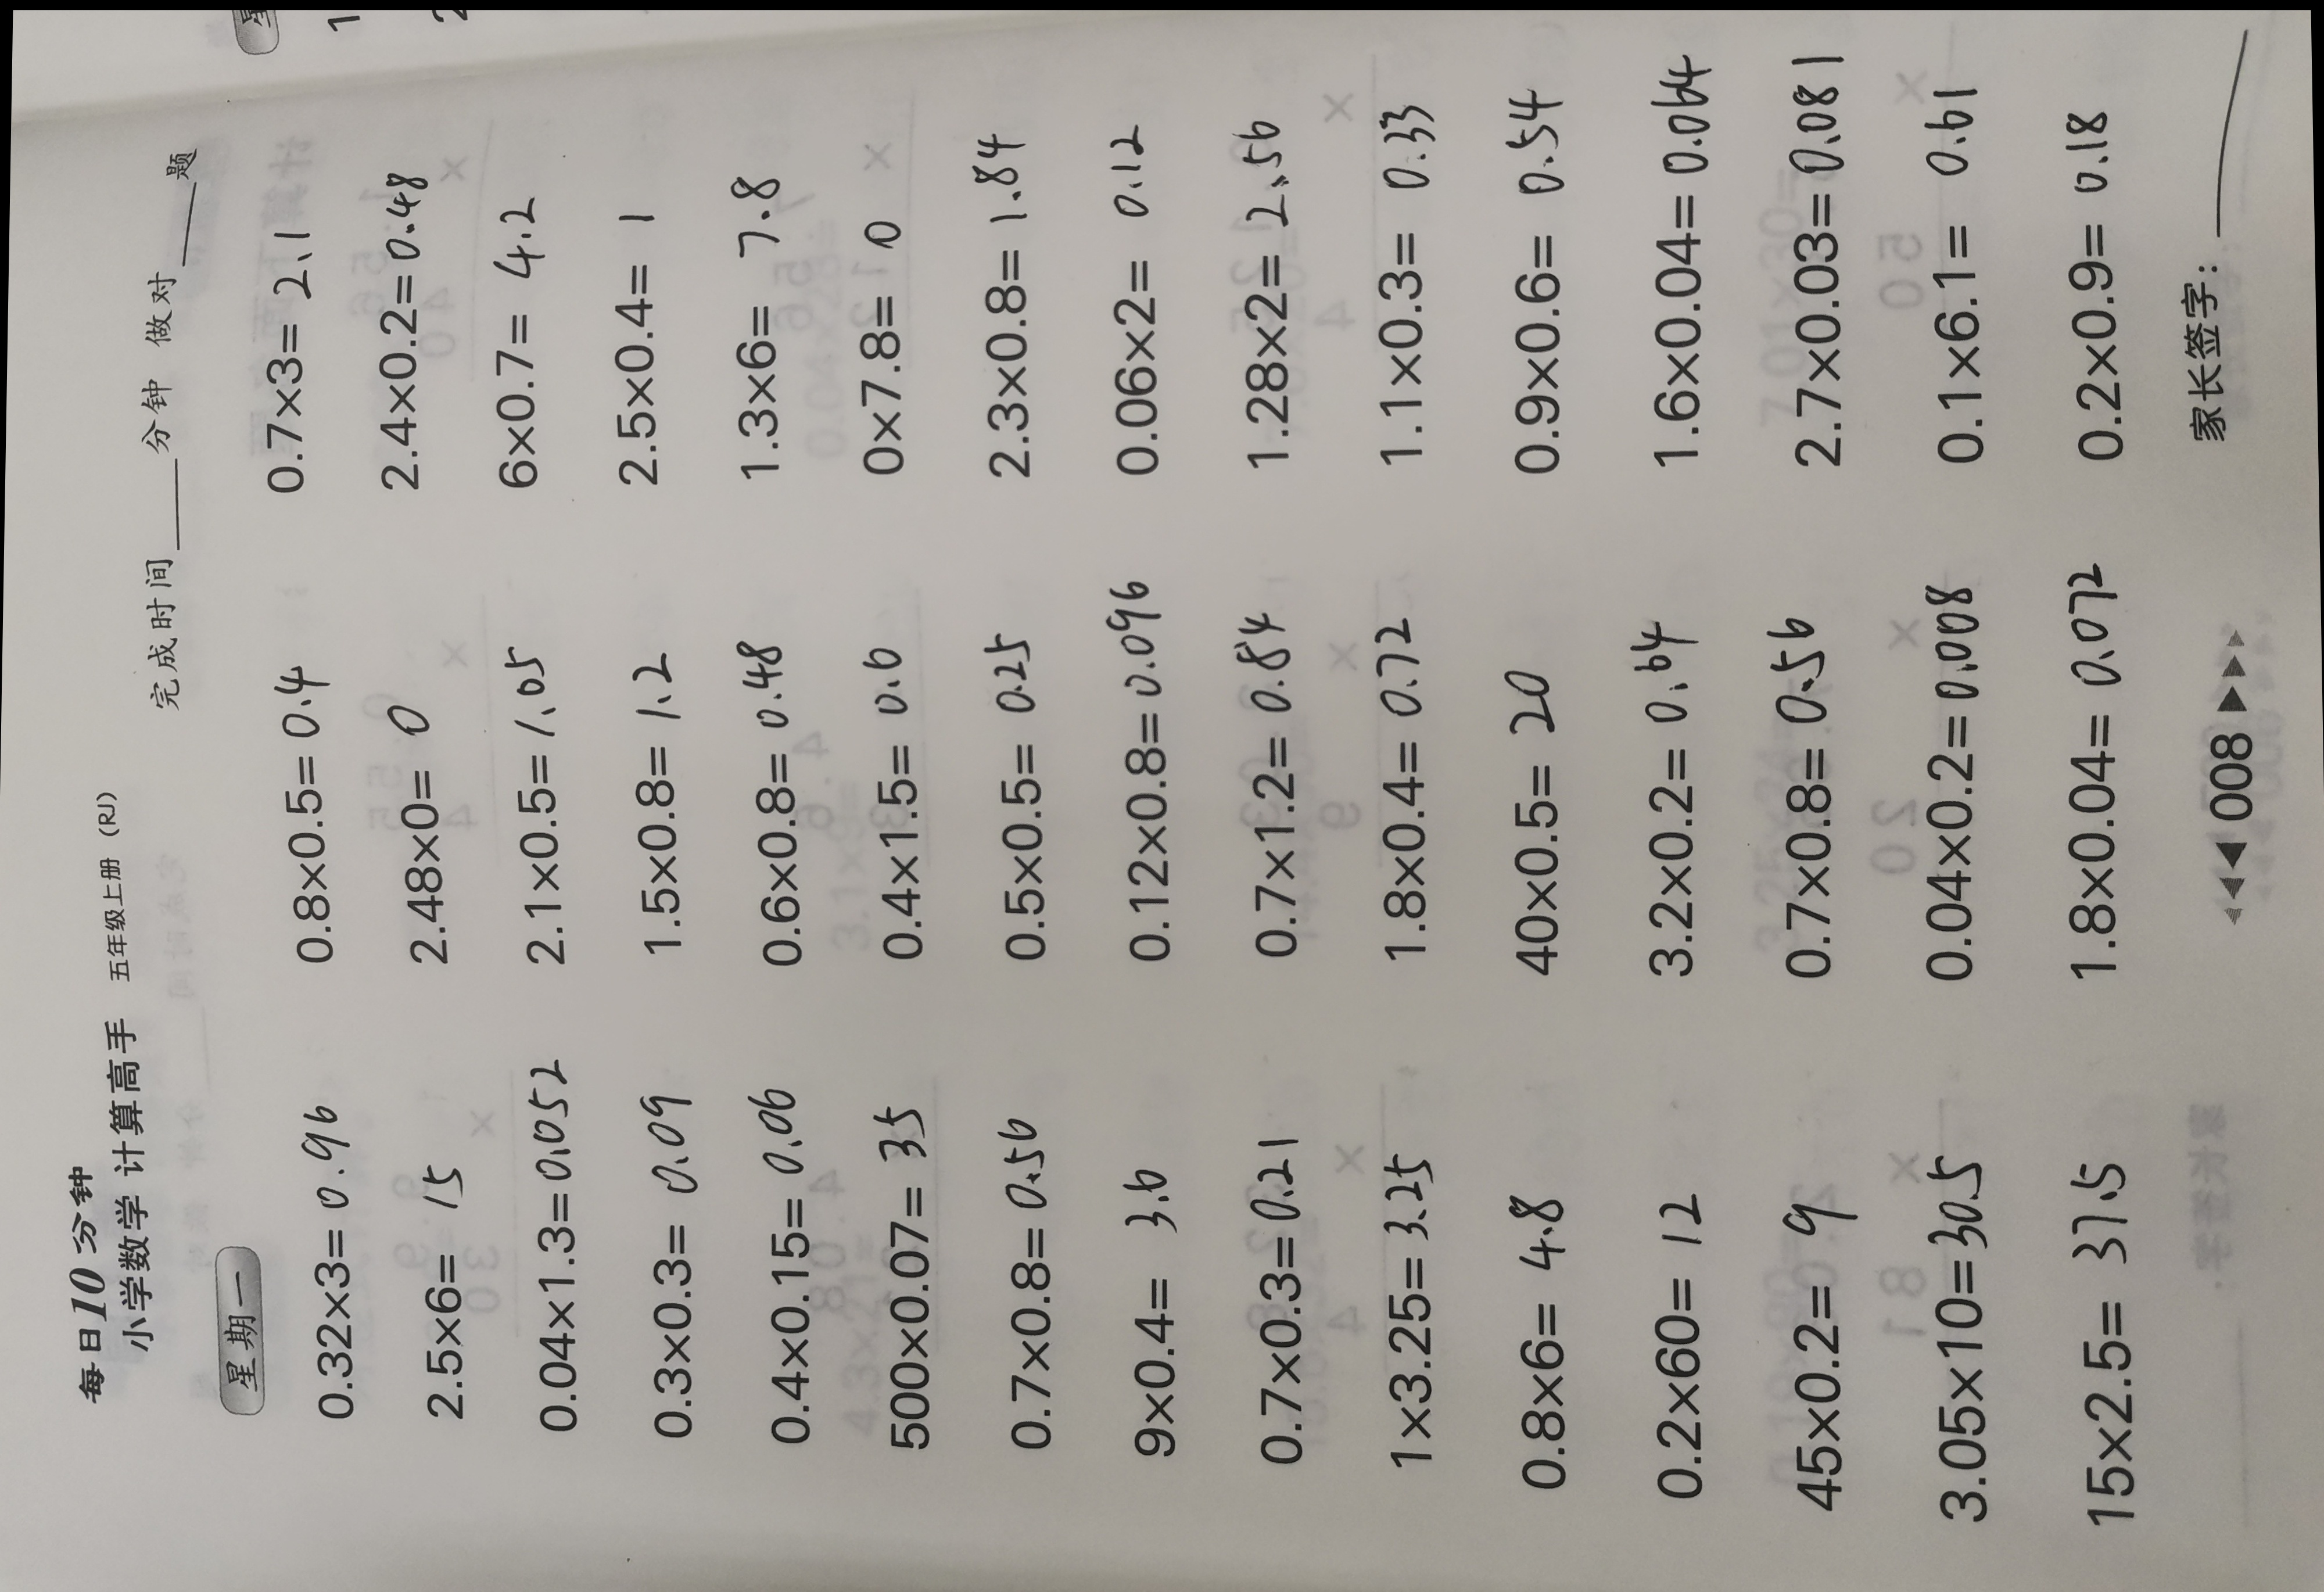equation: (1619, 1216, 2299, 1283), (1623, 1118, 2276, 1186), (865, 1405, 1524, 1465), (1609, 744, 2193, 811), (858, 1108, 1443, 1175), (1602, 1023, 2234, 1085), (864, 1308, 1503, 1368), (1623, 931, 2225, 993), (1614, 1315, 2248, 1373), (853, 1203, 1450, 1265), (78, 1405, 653, 1467), (97, 1209, 592, 1279), (83, 1309, 648, 1369), (899, 836, 1478, 894), (1648, 1410, 2209, 1470), (175, 846, 698, 908), (1609, 656, 2163, 712), (113, 1113, 618, 1175), (879, 498, 1415, 557), (1577, 244, 2105, 302), (1621, 839, 2183, 894), (895, 929, 1452, 984), (890, 753, 1503, 802), (1584, 486, 2100, 544), (221, 359, 807, 410), (205, 509, 756, 562), (867, 1025, 1386, 1080), (124, 1020, 611, 1078), (180, 677, 729, 728), (890, 668, 1418, 721), (161, 933, 671, 988), (189, 597, 743, 647), (885, 343, 1400, 396), (207, 440, 756, 489), (876, 186, 1379, 239), (223, 208, 740, 260), (888, 585, 1404, 636), (159, 762, 650, 815), (1581, 330, 2080, 382), (1566, 410, 2075, 459), (1563, 170, 2031, 223), (230, 284, 685, 336), (897, 431, 1397, 477), (1595, 581, 2052, 629), (890, 265, 1321, 315)
